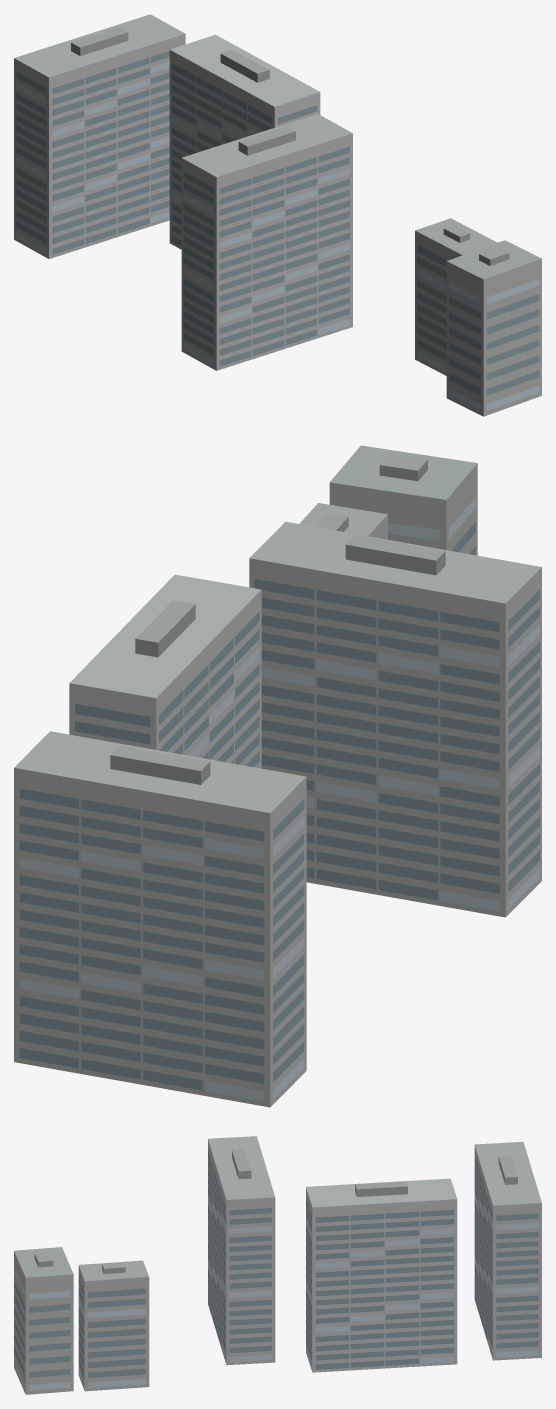
The model's file is apt-a15105005.glb.
3 renders of one model, top to bottom at view 1: azimuth 30°, elevation 25°; view 2: azimuth 150°, elevation 25°; view 3: azimuth 270°, elevation 25°, orthographic. The views are drawn at different scales.
Visible parts, largest first — view 1: apt-a15105005; view 2: apt-a15105005; view 3: apt-a15105005.
Part boxes in pixels (x1=…): apt-a15105005: x1=14, y1=14, x2=541, y2=416; apt-a15105005: x1=14, y1=445, x2=541, y2=1107; apt-a15105005: x1=14, y1=1136, x2=541, y2=1394.
Bounding box in the file's own units: 58.46 × 48 × 133.
